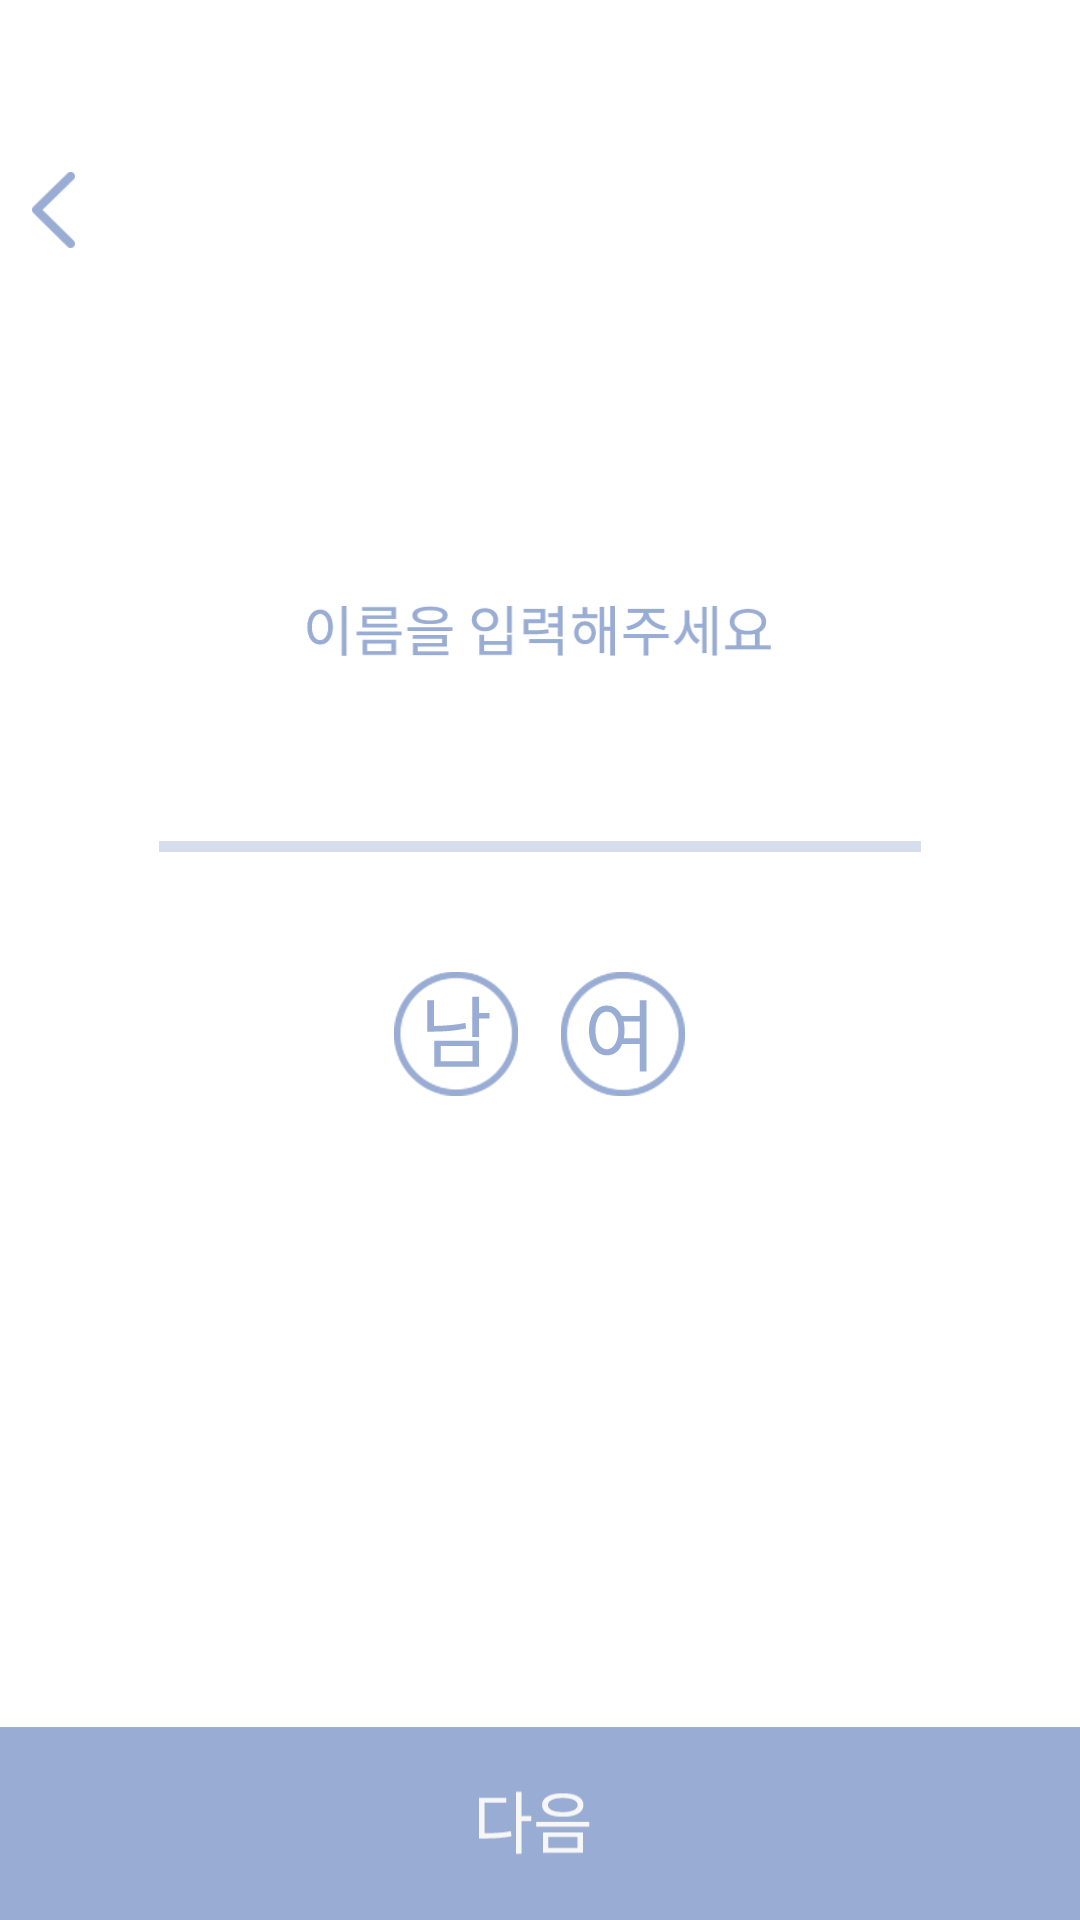

Icons on this 1080 × 1920 Android screen, each with the point to tap as (x=x, y=y):
back: (x=53, y=210)
